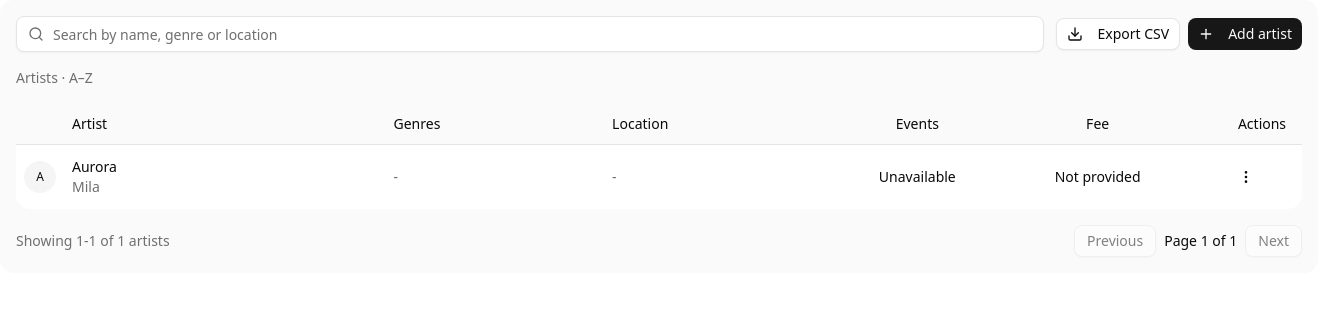
Test case: reports an empty server result without downloading
What coordinates should you click on to do the following:
click the button "Export CSV"
I would click on:
 (1118, 34)
Its box is [1056,18,1180,50].
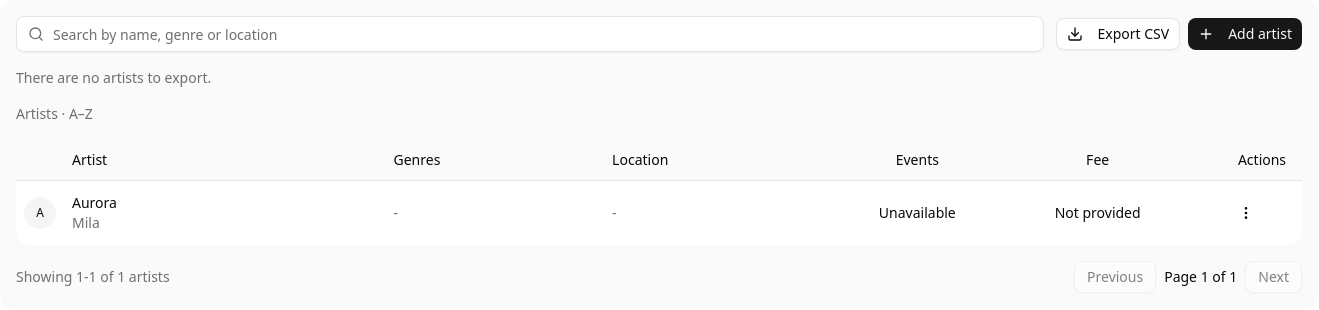
Expected: the text "There are no artists to export." is shown, [16,68,211,87]
